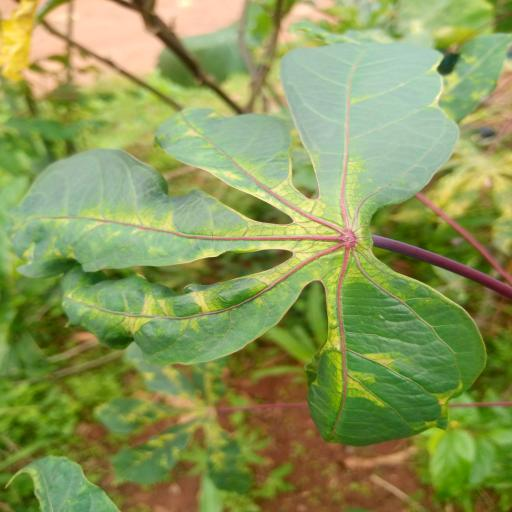Cassava_Mosaic: (4, 28, 478, 447)
